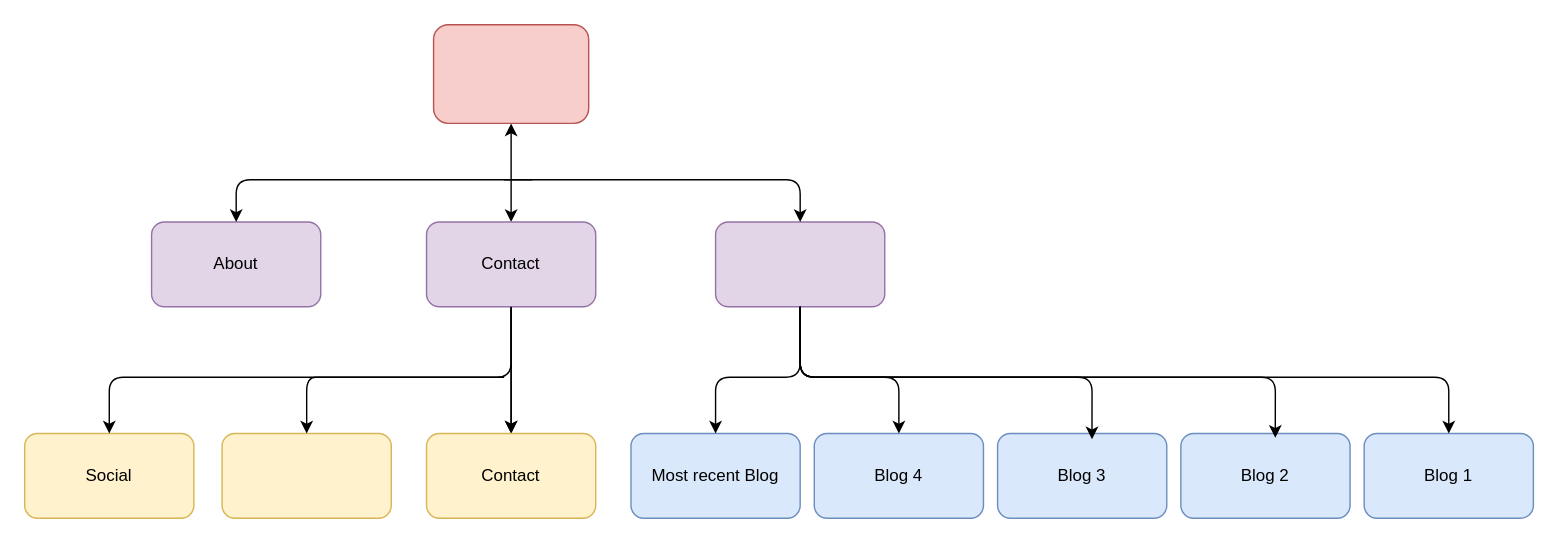
Some shapes in this 1558 by 543 pixel diagram are drawn without their labels. The shapes that lost their labels are listed below. From the top down, each one's centre as x and y in pixels, then its label:
At pixel 510 73: "Home".
At pixel 799 264: "Blogs".
At pixel 306 475: "Linkedin".
